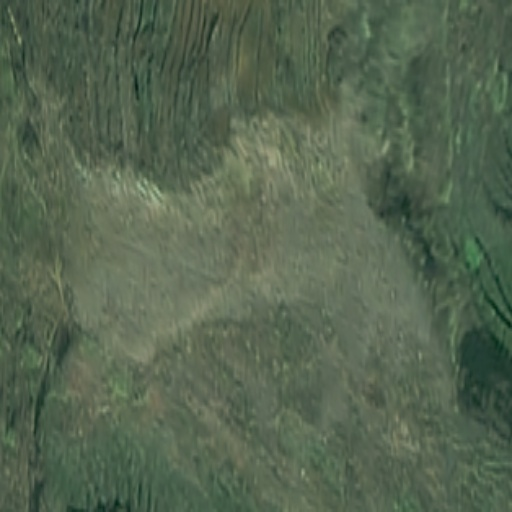landslide: (134, 117, 377, 237)
